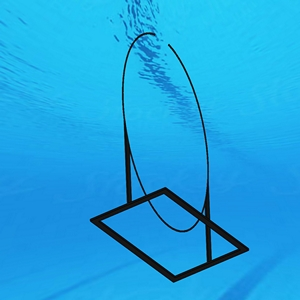circle: (87, 30, 253, 283)
